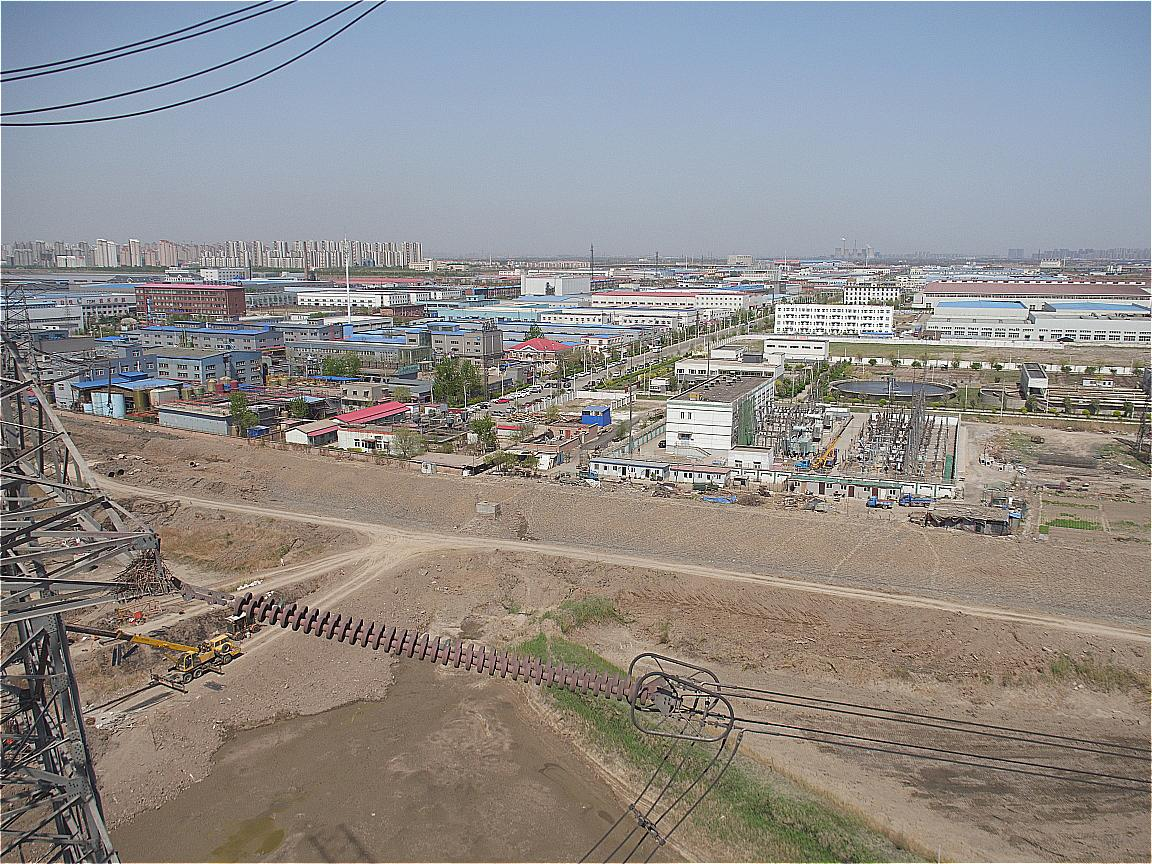insultor1: (234, 590, 639, 706)
